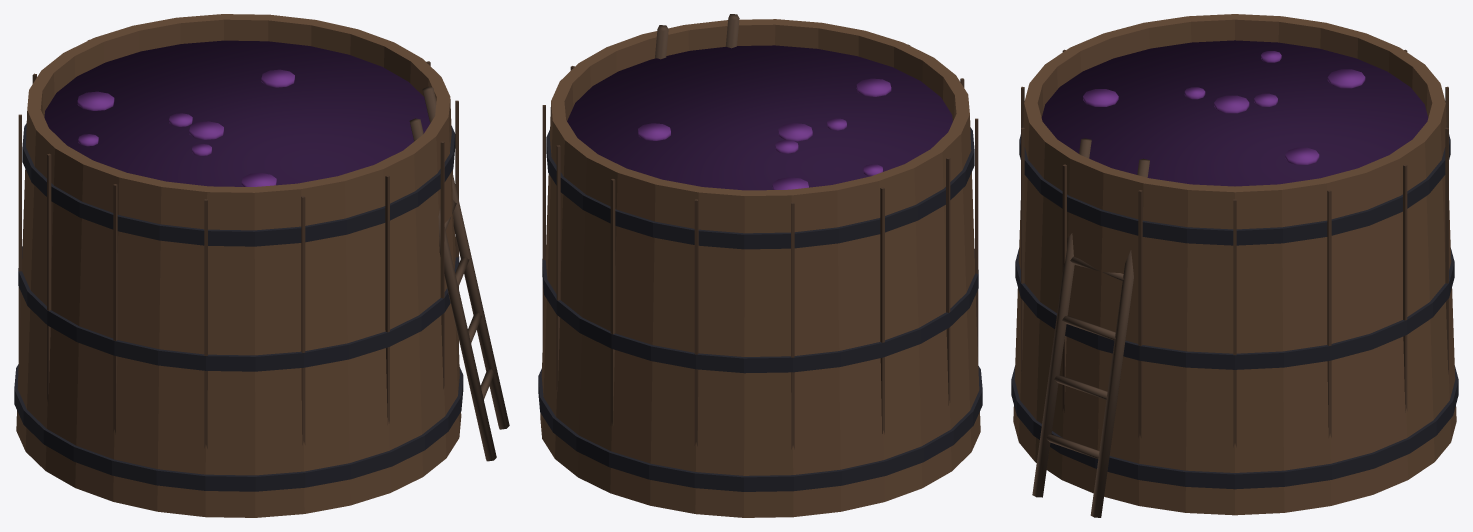
File: great_vat.glb
The picture shows the model from 3 angles, left to right: view 1: azimuth 30°, elevation 25°; view 2: azimuth 150°, elevation 25°; view 3: azimuth 270°, elevation 25°; orthographic projection.
Visible parts, largest first — view 1: great_vat; view 2: great_vat; view 3: great_vat.
Part boxes in pixels (box(x1,y1,x2,y2)): great_vat: box(14, 14, 509, 517); great_vat: box(538, 14, 982, 517); great_vat: box(1011, 14, 1458, 517).
Bounding box in the file's own units: 1.68 × 1.36 × 1.66.
